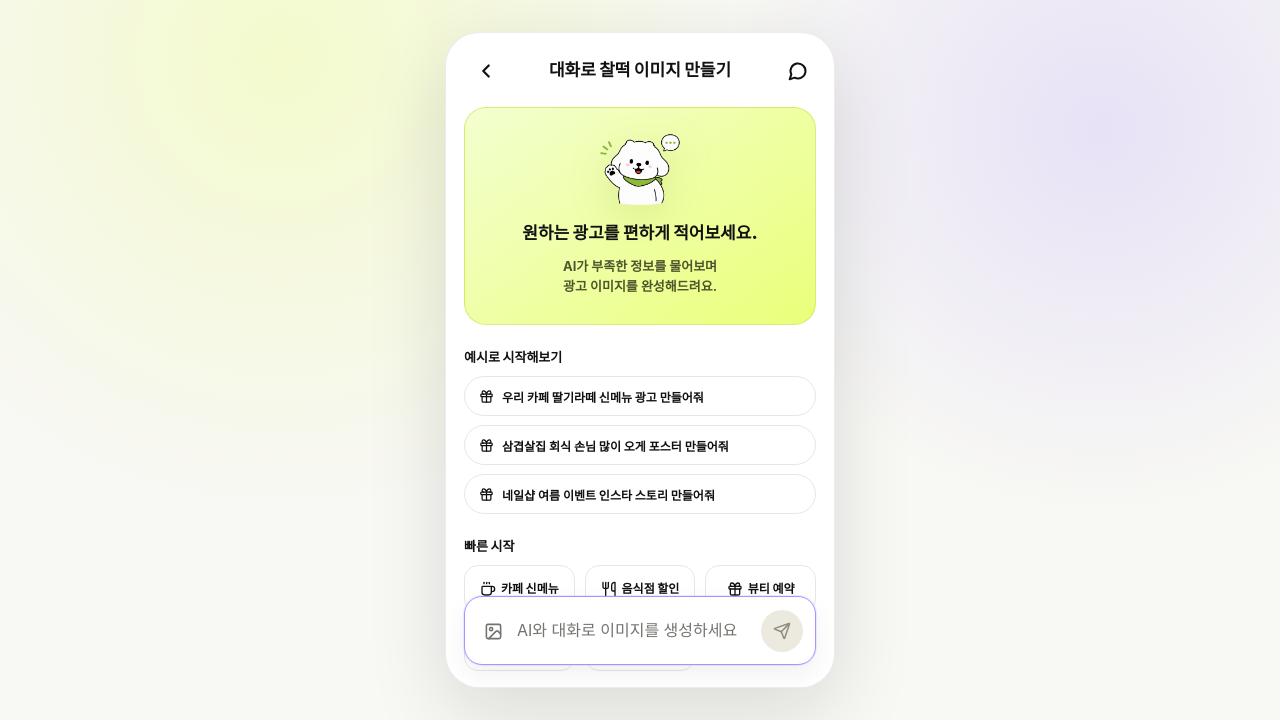
Scenario: ChatGenerateClient › routes initial copy-candidate interrupts into copy selection instead of an empty question screen
This screenshot has width=1280, height=720.
Type "네일샵 여름 이벤트 인스타 스토리 만들어줘" into the text box named "광고 요청 입력" at (635, 630), box top-left (517, 609), bottom-right (753, 652)
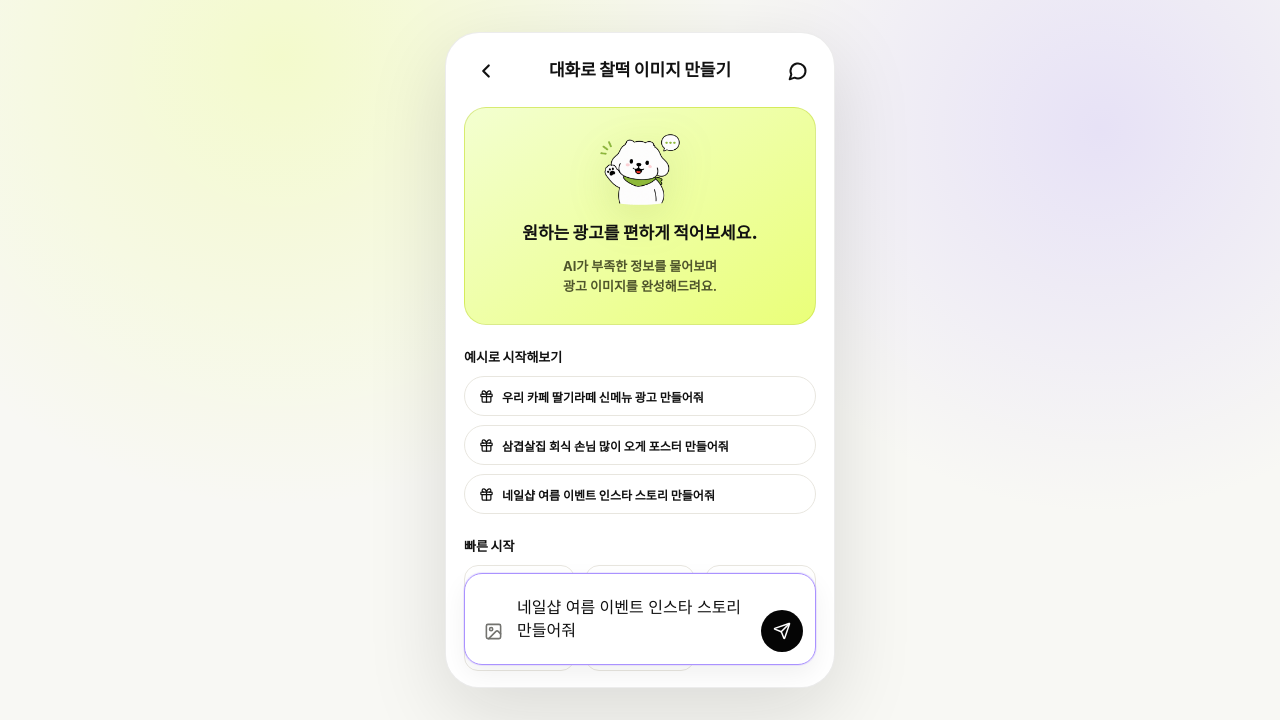
Click the button named "요청 보내기" at (782, 631), box top-left (761, 610), bottom-right (803, 652)
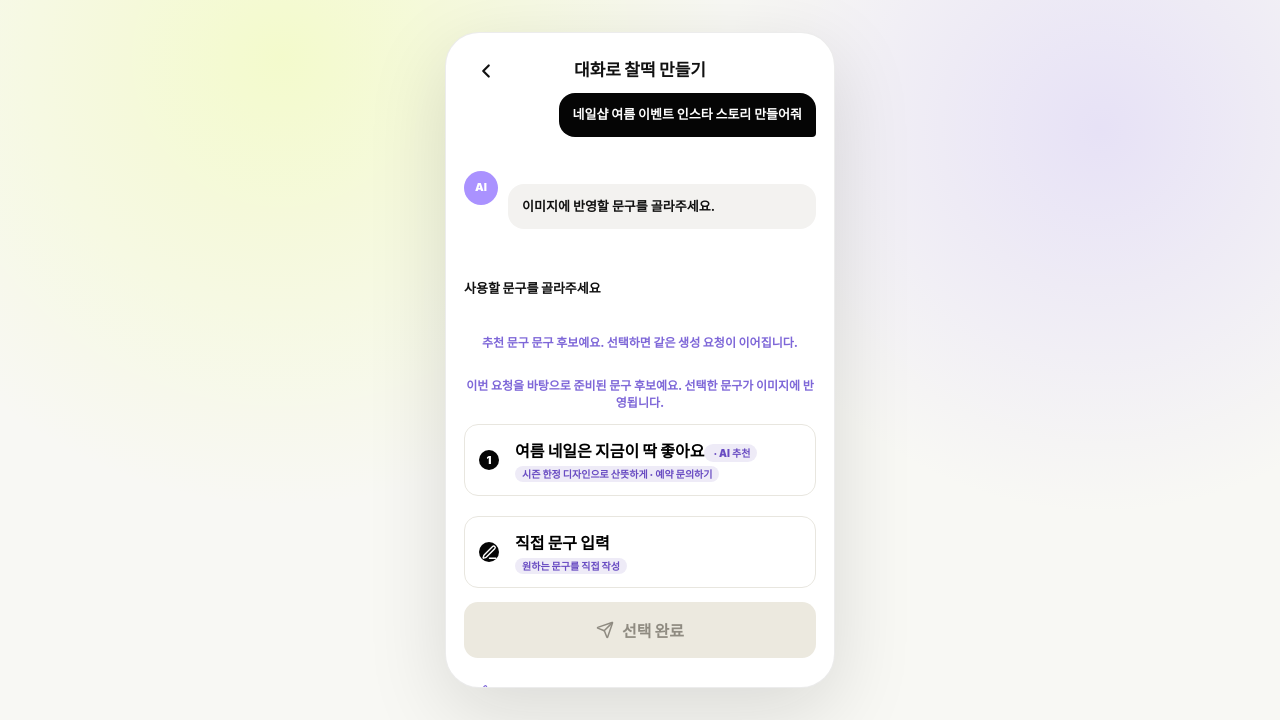
Check: the heading "사용할 문구를 골라주세요" is shown, box top-left (464, 280), bottom-right (601, 296)
Check: the text "여름 네일은 지금이 딱 좋아요" is shown, box top-left (515, 441), bottom-right (704, 461)
